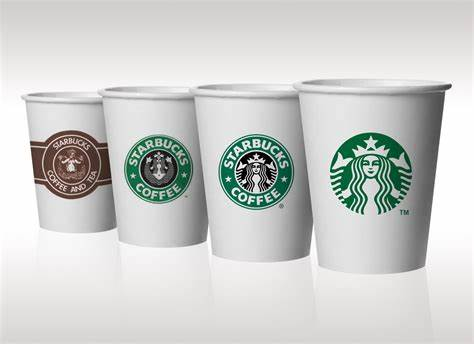starbucks Originale: (327, 123, 418, 221)
